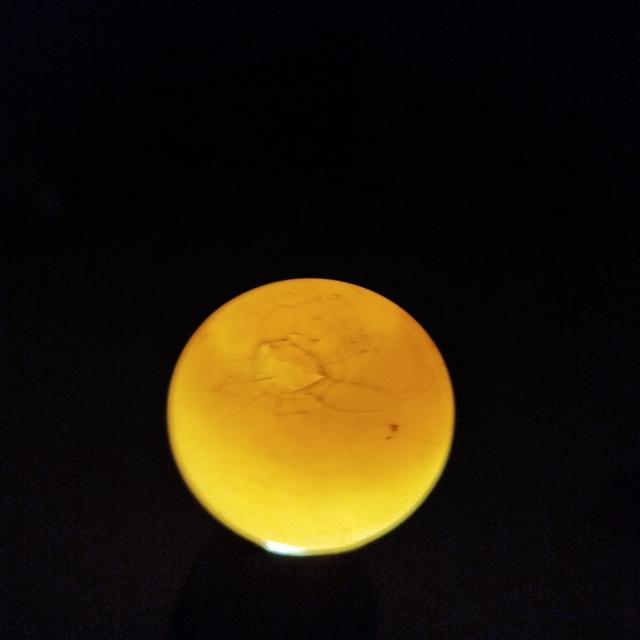Camara de Ar: (208, 278, 417, 382)
Rachadura: (231, 334, 394, 415)
